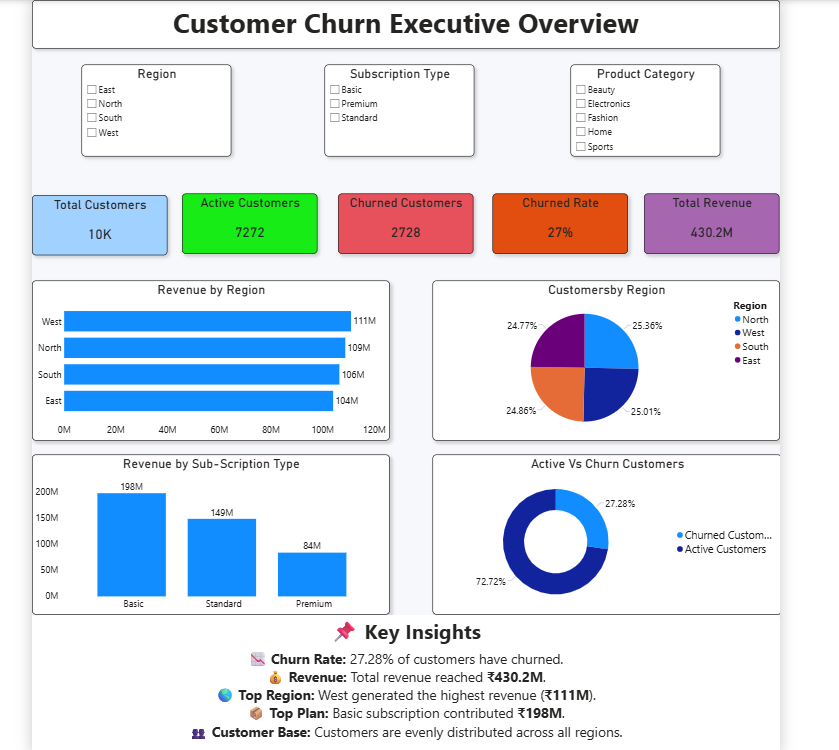

Layout of this report page (visuals, bound fields, positions):
{"tool":"powerbi","page":{"name":"Page 1","canvas":[2630,2650],"ordinal":0},"visuals":[{"type":"card","title":"Total Customers","fields":{"Values":["customers.Total Customers"]},"box":[0,683.2,476.2,212.2],"z":0},{"type":"card","title":"Active Customers","fields":{"Values":["customers.Active Customers"]},"box":[527.9,678,476.2,212.2],"z":1000},{"type":"card","title":"Churned Customers","fields":{"Values":["customers.Churned Customers"]},"box":[1076.5,678,476.2,212.2],"z":2000},{"type":"card","title":"Churned Rate","fields":{"Values":["customers.Churn Rate %"]},"box":[1620,678,476.2,212.2],"z":3000},{"type":"card","title":"Total Revenue","fields":{"Values":["customers.Total Revenue"]},"box":[2153,678,476.2,212.2],"z":4000},{"type":"textbox","box":[0,0,2629.2,170.8],"z":5000},{"type":"clusteredBarChart","title":"Revenue by Region","fields":{"Category":["customers.Region"],"Y":["customers.Total Revenue"]},"box":[0,987.8,1257.2,562.7],"z":6000},{"type":"pieChart","title":"Customersby Region","fields":{"Category":["customers.Region"],"Y":["customers.Total Customers"]},"box":[1406.8,987.8,1221.3,562.7],"z":7000},{"type":"clusteredColumnChart","title":"Revenue by Sub-Scription Type","fields":{"Category":["customers.Subscription_Type"],"Y":["customers.Total Revenue"]},"box":[0,1598.4,1257.2,562.7],"z":8000},{"type":"donutChart","title":"Active Vs Churn Customers","fields":{"Y":["customers.Churned Customers","customers.Active Customers"]},"box":[1406.8,1598.4,1227.3,562.7],"z":9000},{"type":"textbox","box":[0,2161.2,2628.1,490.9],"z":10000},{"type":"slicer","title":"Region","fields":{"Values":["customers.Region"]},"box":[173.6,227.5,526.8,323.3],"z":11000},{"type":"slicer","title":"Product Category","fields":{"Values":["customers.Product_Category"]},"box":[1891.8,227.5,526.8,323.3],"z":12000},{"type":"slicer","title":"Subscription Type","fields":{"Values":["customers.Subscription_Type"]},"box":[1029.7,227.5,526.8,323.3],"z":13000}]}

Visuals, with their boxes on the page's 2630x2650 design canvas (x1, y1, x2, y2). These are canvas units, not pixel positions in the 839x750 screenshot, which may show the page scaled, cropped or inside an application window:
"Total Customers" card: (0, 683, 476, 895)
"Active Customers" card: (528, 678, 1004, 890)
"Churned Customers" card: (1076, 678, 1553, 890)
"Churned Rate" card: (1620, 678, 2096, 890)
"Total Revenue" card: (2153, 678, 2629, 890)
textbox: (0, 0, 2629, 171)
"Revenue by Region" clusteredBarChart: (0, 988, 1257, 1550)
"Customersby Region" pieChart: (1407, 988, 2628, 1550)
"Revenue by Sub-Scription Type" clusteredColumnChart: (0, 1598, 1257, 2161)
"Active Vs Churn Customers" donutChart: (1407, 1598, 2634, 2161)
textbox: (0, 2161, 2628, 2652)
"Region" slicer: (174, 228, 700, 551)
"Product Category" slicer: (1892, 228, 2419, 551)
"Subscription Type" slicer: (1030, 228, 1556, 551)
